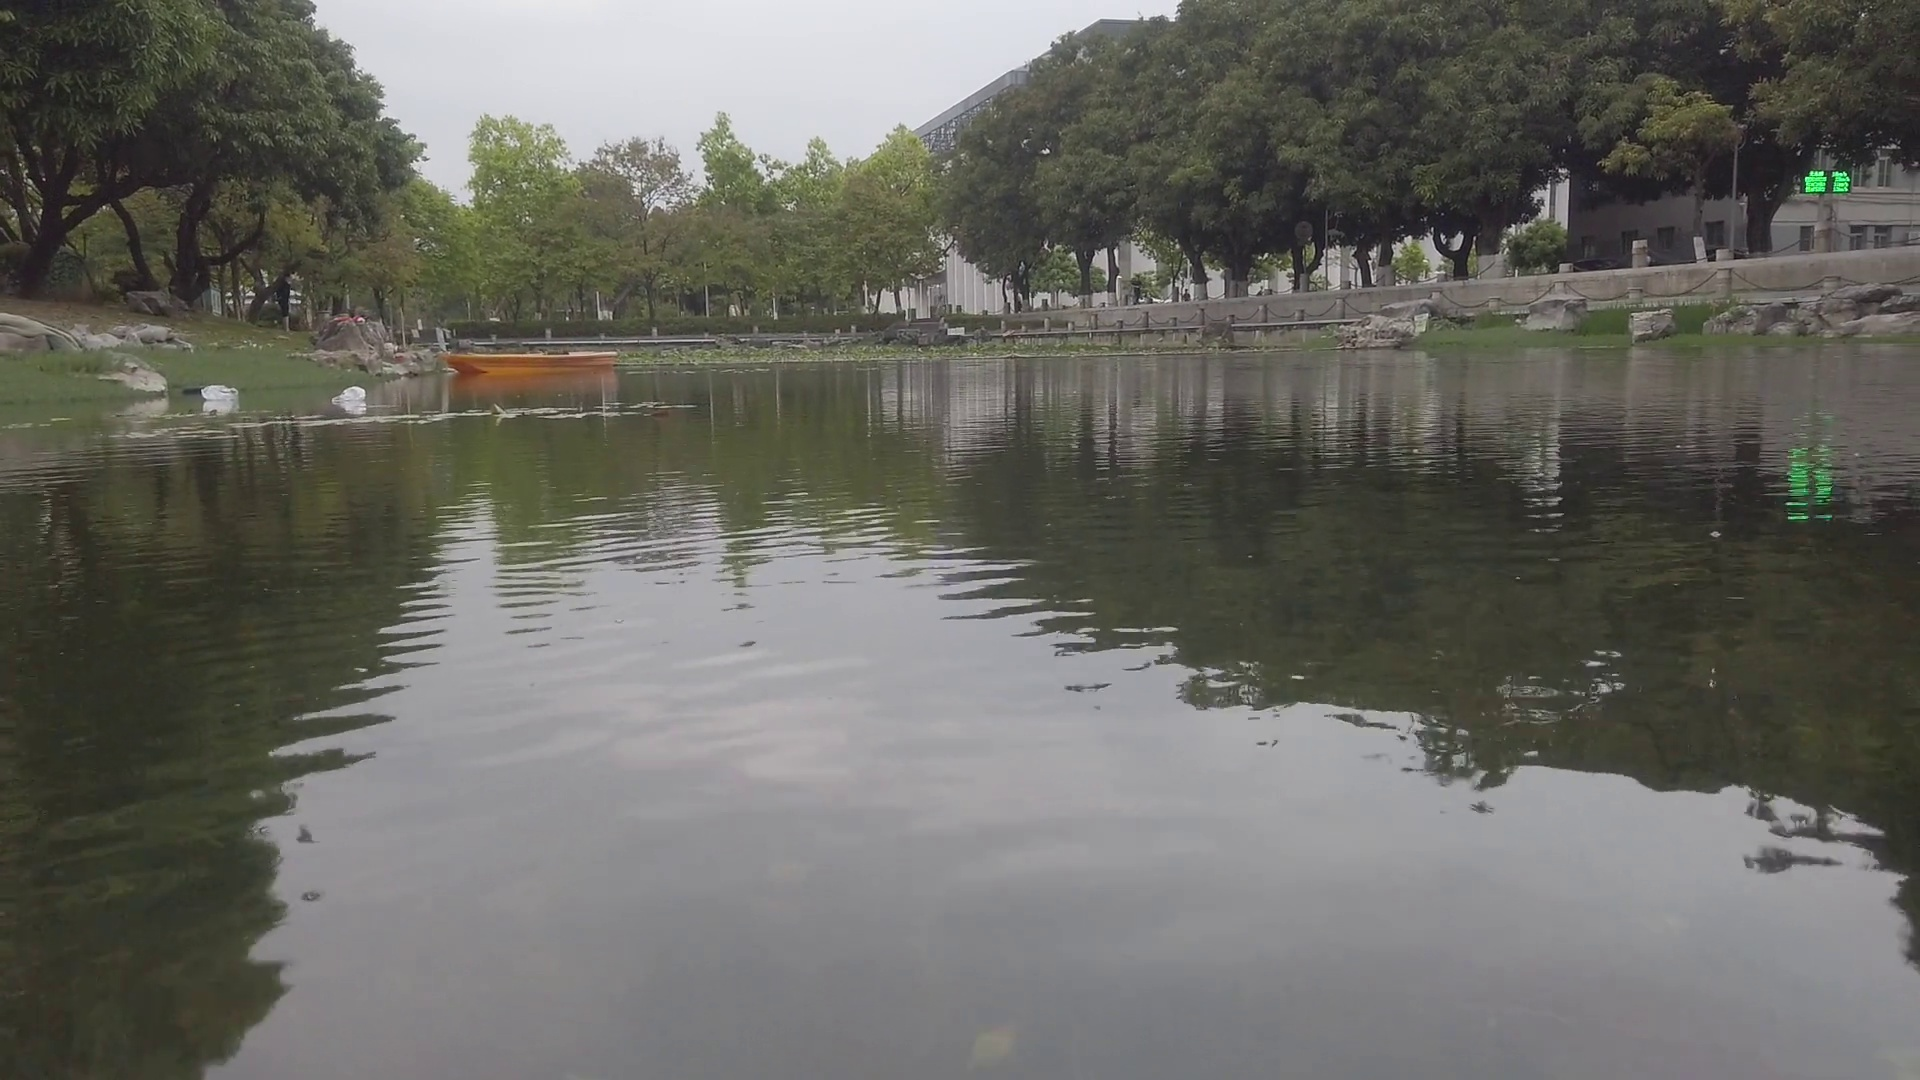plastic: (330, 386, 369, 402), (203, 386, 237, 398)
